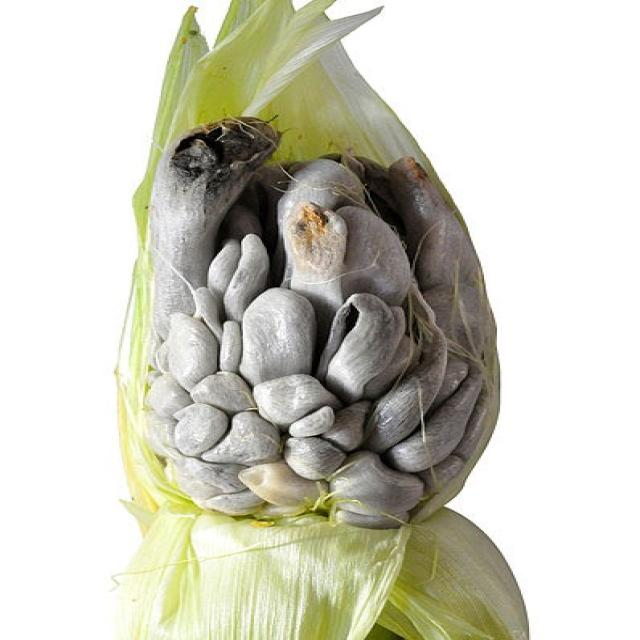Leaf_Scald: (61, 67, 584, 566)
